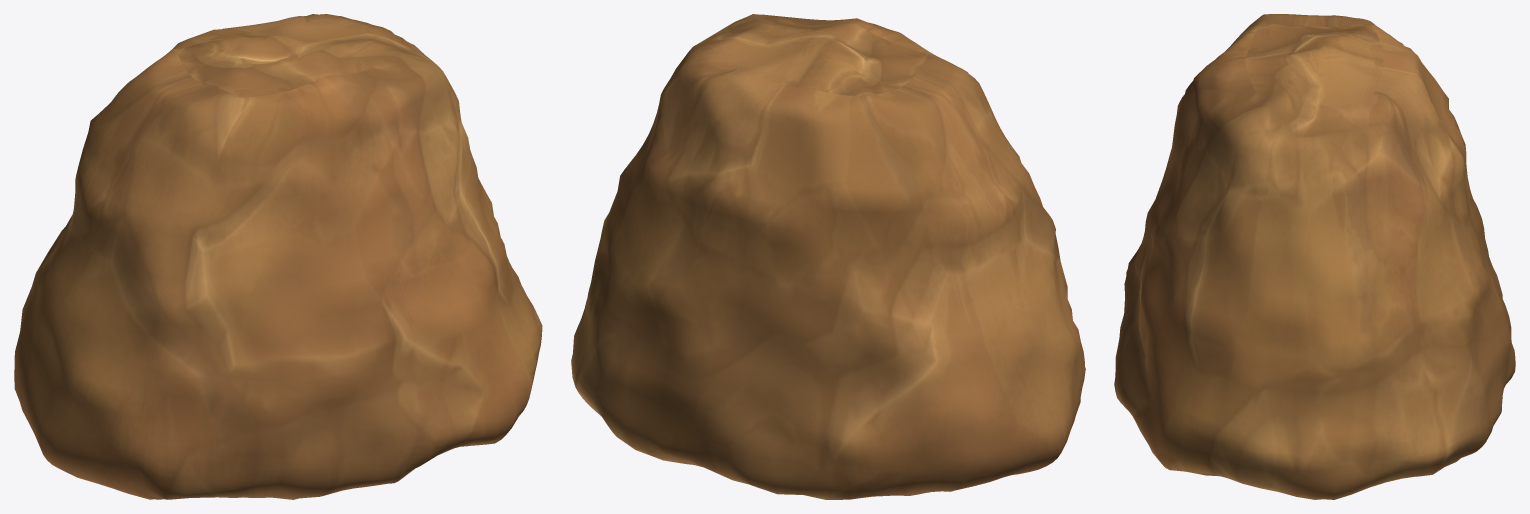
File: islands1.fbx
The picture shows the model from 3 angles, left to right: view 1: azimuth 30°, elevation 25°; view 2: azimuth 150°, elevation 25°; view 3: azimuth 270°, elevation 25°; orthographic projection. The views are drawn at different scales.
Visible parts, largest first — view 1: Cube; view 2: Cube; view 3: Cube.
Part boxes in pixels (<box>): Cube: <box>14,14,542,499</box>; Cube: <box>571,14,1085,499</box>; Cube: <box>1114,14,1515,499</box>.
Size of the model in its own units: 1333 by 1083 by 1030.
1 material, 1 textured.
